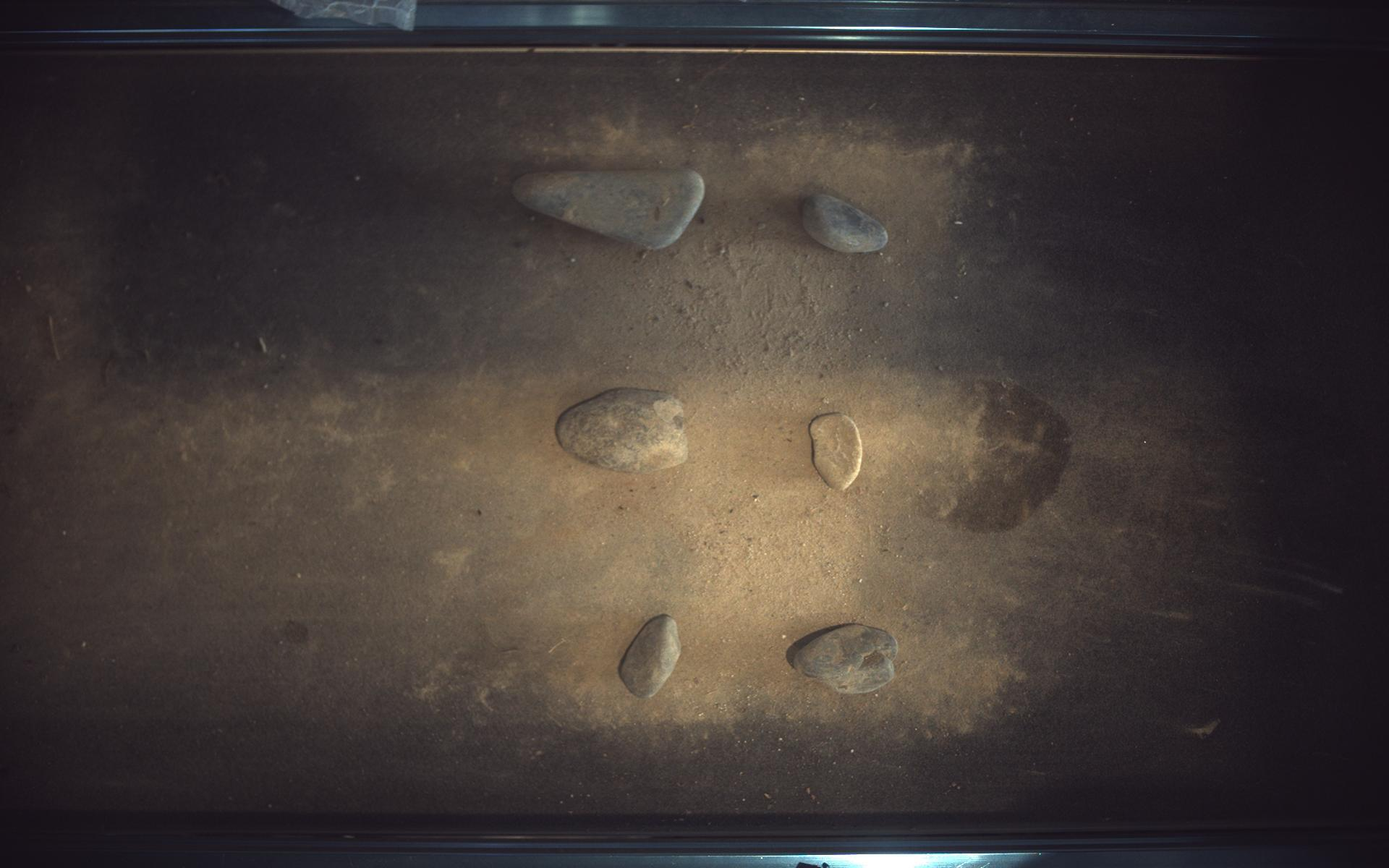stone: (513, 169, 705, 249), (556, 388, 688, 474), (789, 624, 900, 695), (619, 615, 681, 699), (803, 193, 890, 252), (811, 414, 864, 490)
